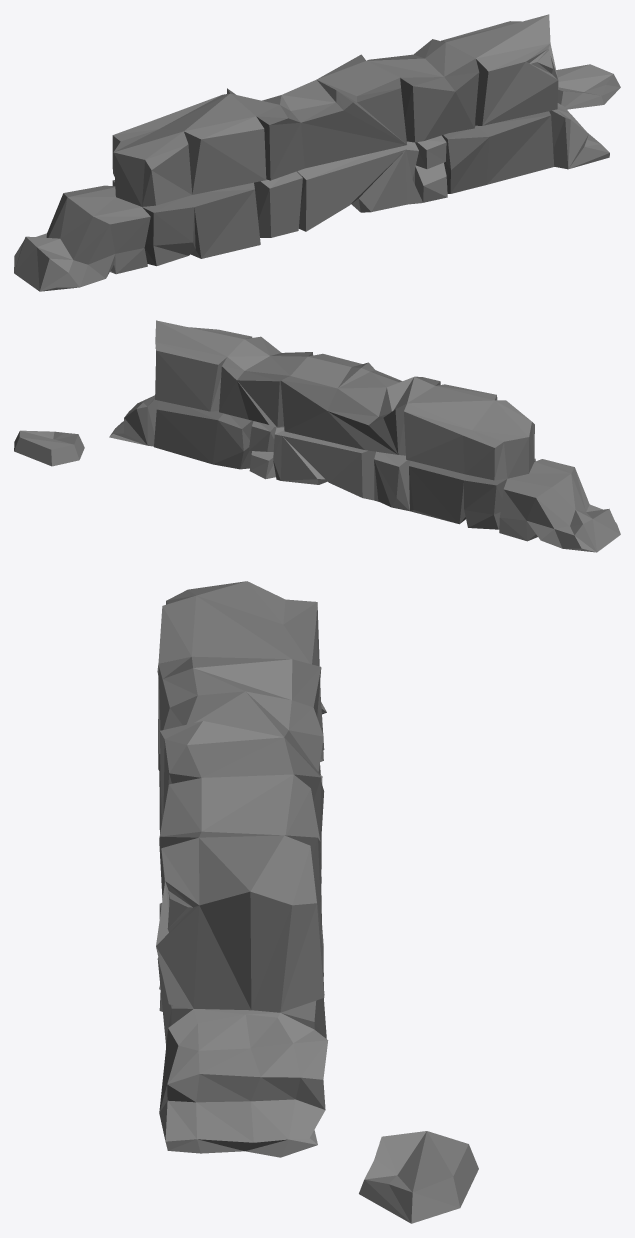
The model's file is _ruin_11.glb.
The picture shows the model from 3 angles, top to bottom: view 1: azimuth 30°, elevation 25°; view 2: azimuth 150°, elevation 25°; view 3: azimuth 270°, elevation 25°; orthographic projection. The views are drawn at different scales.
Parts seen in each view (by area): view 1: ruin_11; view 2: ruin_11; view 3: ruin_11.
Part boxes in pixels (left/top/right/bottom): ruin_11: left=14, top=14, right=620, bottom=291; ruin_11: left=14, top=320, right=620, bottom=552; ruin_11: left=156, top=581, right=478, bottom=1223.
Size of the model in its own units: 5.84 by 1.19 by 1.48.
1 material, 1 textured.
